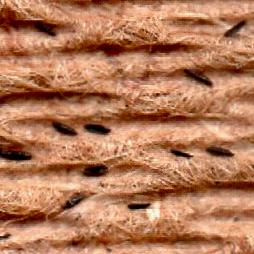egg: (184, 69, 212, 85), (224, 20, 246, 36), (63, 193, 84, 209), (0, 148, 30, 158), (52, 122, 76, 133), (83, 165, 107, 176), (35, 22, 54, 35), (85, 124, 110, 133), (206, 147, 233, 155), (171, 149, 192, 156), (129, 204, 150, 208)
